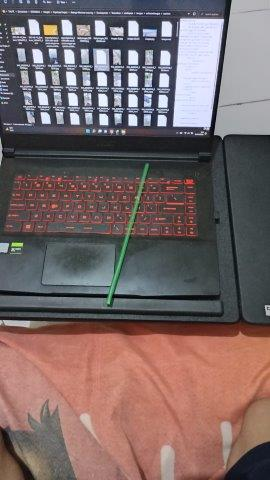sedotan: (108, 164, 149, 302)
